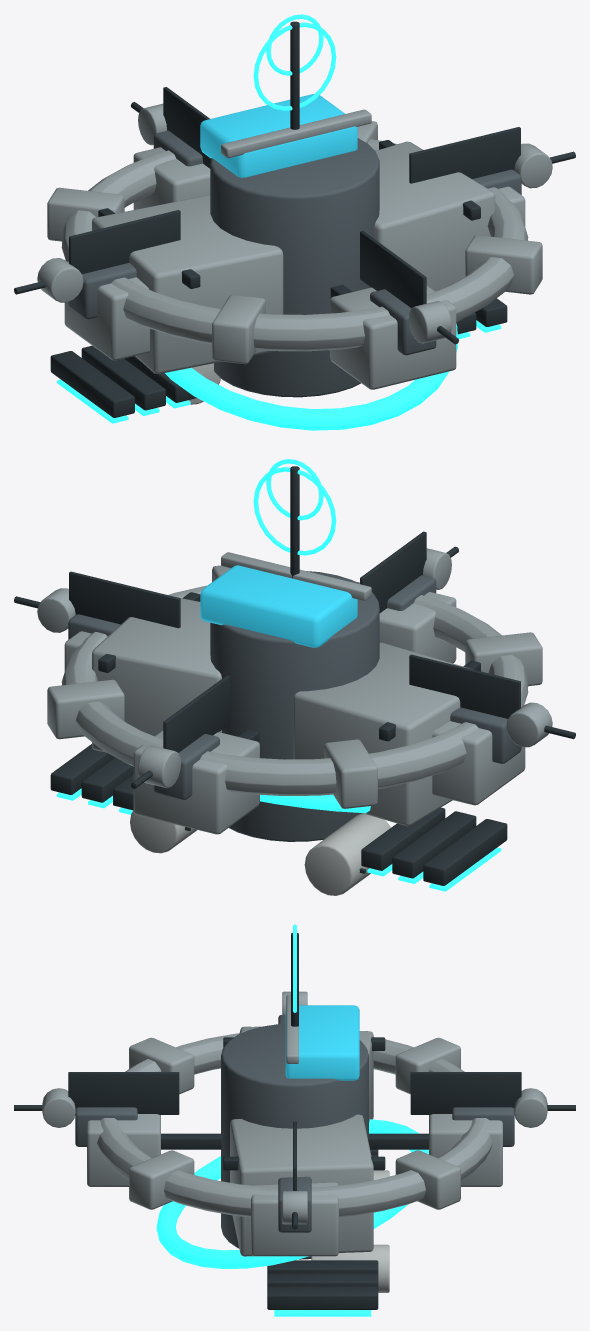
Rendered from outpost.glb.
The picture shows the model from 3 angles, top to bottom: view 1: azimuth 30°, elevation 25°; view 2: azimuth 150°, elevation 25°; view 3: azimuth 270°, elevation 25°; orthographic projection. The views are drawn at different scales.
Parts seen in each view (by area): view 1: Outpost_ArmorGeometry, Outpost_HullGeometry, Outpost_DarkGeometry, Outpost_GuidanceGeometry, Outpost_GlassGeometry; view 2: Outpost_ArmorGeometry, Outpost_DarkGeometry, Outpost_HullGeometry, Outpost_GlassGeometry, Outpost_InteriorGeometry, Outpost_GuidanceGeometry; view 3: Outpost_ArmorGeometry, Outpost_DarkGeometry, Outpost_HullGeometry, Outpost_GuidanceGeometry, Outpost_GlassGeometry, Outpost_InteriorGeometry.
Boxes of the visible parts, x1,y1,x2,y2 form: Outpost_ArmorGeometry: (37, 103, 552, 389); Outpost_HullGeometry: (68, 130, 521, 397); Outpost_DarkGeometry: (14, 21, 575, 417); Outpost_GuidanceGeometry: (57, 14, 501, 430); Outpost_GlassGeometry: (200, 94, 357, 177); Outpost_ArmorGeometry: (37, 548, 552, 834); Outpost_DarkGeometry: (14, 466, 575, 885); Outpost_HullGeometry: (68, 571, 521, 841); Outpost_GlassGeometry: (200, 565, 357, 647); Outpost_InteriorGeometry: (130, 810, 390, 895); Outpost_GuidanceGeometry: (57, 459, 501, 891); Outpost_ArmorGeometry: (42, 991, 547, 1256); Outpost_DarkGeometry: (14, 933, 575, 1309); Outpost_HullGeometry: (75, 1015, 514, 1259); Outpost_GuidanceGeometry: (156, 924, 428, 1316); Outpost_GlassGeometry: (285, 1005, 359, 1080); Outpost_InteriorGeometry: (311, 1170, 389, 1292).
Bounding box in the file's own units: 24.3 × 15.59 × 24.3.
